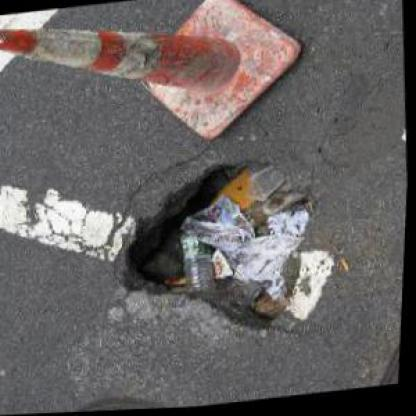pothole: (110, 150, 327, 346)
